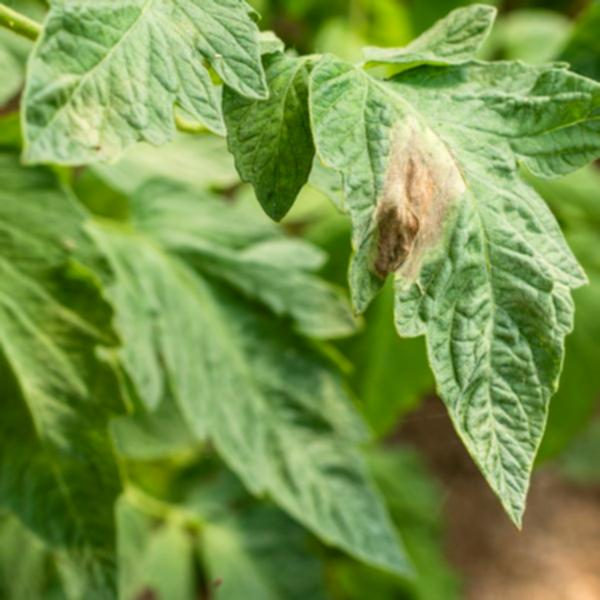Tomato leaf late blight: (303, 3, 599, 540), (6, 4, 269, 175)
